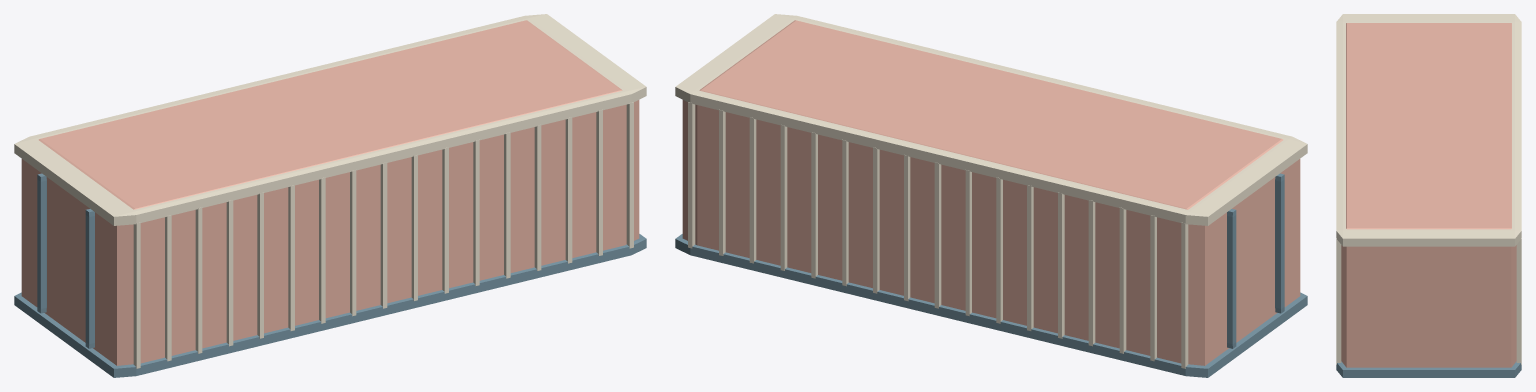
The picture shows the model from 3 angles, left to right: view 1: azimuth 30°, elevation 25°; view 2: azimuth 150°, elevation 25°; view 3: azimuth 270°, elevation 25°; orthographic projection. The views are drawn at different scales.
Visible parts, largest first — view 1: shell, upper_frame, lower_frame, door_bar0, door_bar1, rib_0_1, rib_14_1, rib_2_1, rib_3_1, rib_8_1, rib_13_1, rib_16_1 (+10 smaller); view 2: shell, upper_frame, lower_frame, door_bar1, door_bar0, rib_0_-1, rib_14_-1, rib_2_-1, rib_3_-1, rib_8_-1, rib_13_-1, rib_16_-1 (+10 smaller); view 3: shell, upper_frame, lower_frame, rib_16_-1, rib_16_1.
Boxes of the visible parts, left/top/right/bottom form: shell: left=21, top=20, right=639, bottom=365; upper_frame: left=14, top=14, right=646, bottom=225; lower_frame: left=14, top=234, right=646, bottom=377; door_bar0: left=37, top=173, right=46, bottom=313; door_bar1: left=85, top=209, right=94, bottom=348; rib_0_1: left=133, top=222, right=140, bottom=368; rib_14_1: left=565, top=117, right=572, bottom=263; rib_2_1: left=195, top=207, right=202, bottom=353; rib_3_1: left=226, top=200, right=233, bottom=346; rib_8_1: left=380, top=162, right=387, bottom=308; rib_13_1: left=534, top=125, right=541, bottom=270; rib_16_1: left=626, top=102, right=633, bottom=248; shell: left=682, top=20, right=1300, bottom=365; upper_frame: left=675, top=14, right=1307, bottom=225; lower_frame: left=675, top=234, right=1307, bottom=377; door_bar1: left=1275, top=173, right=1284, bottom=313; door_bar0: left=1227, top=209, right=1236, bottom=348; rib_0_-1: left=1181, top=222, right=1188, bottom=368; rib_14_-1: left=749, top=117, right=756, bottom=263; rib_2_-1: left=1119, top=207, right=1126, bottom=353; rib_3_-1: left=1088, top=200, right=1095, bottom=346; rib_8_-1: left=934, top=162, right=941, bottom=308; rib_13_-1: left=780, top=125, right=787, bottom=270; rib_16_-1: left=688, top=102, right=695, bottom=248; shell: left=1341, top=23, right=1516, bottom=367; upper_frame: left=1336, top=14, right=1521, bottom=246; lower_frame: left=1336, top=361, right=1521, bottom=377; rib_16_-1: left=1516, top=238, right=1521, bottom=364; rib_16_1: left=1336, top=238, right=1341, bottom=364.
Size of the model in its own units: 10.22 by 3 by 3.56.
